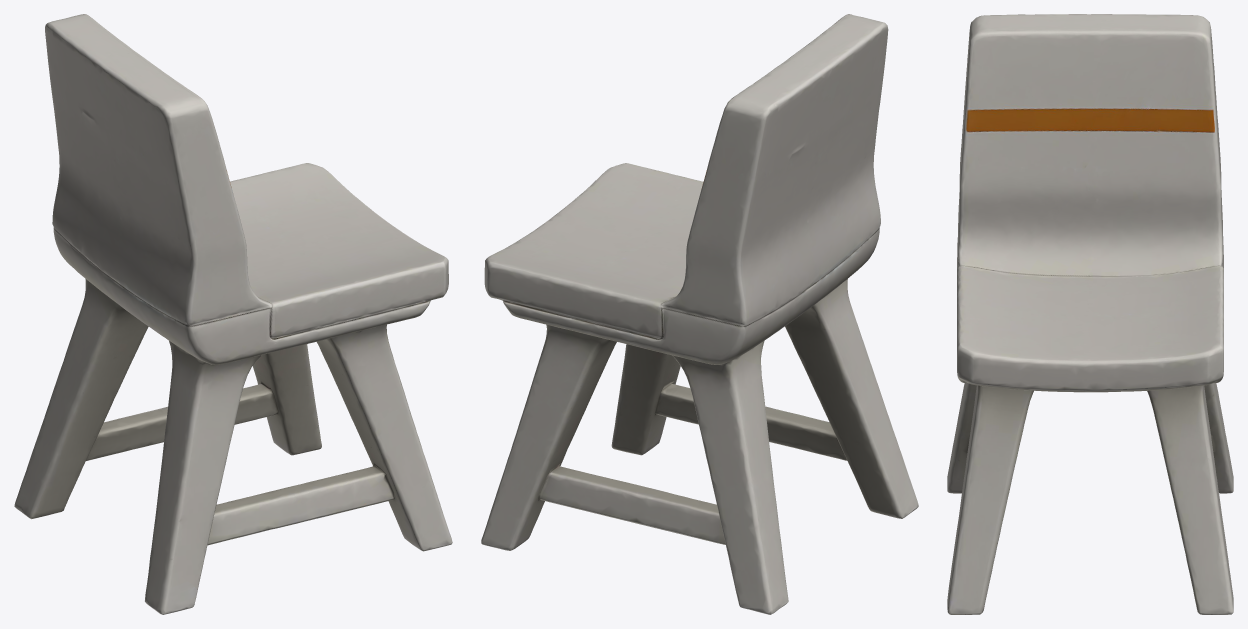
File: tripo-output.glb
The picture shows the model from 3 angles, left to right: view 1: azimuth 30°, elevation 25°; view 2: azimuth 150°, elevation 25°; view 3: azimuth 270°, elevation 25°; orthographic projection. The views are drawn at different scales.
Visible parts, largest first — view 1: tripo_node_08ae6e28-a05e-4b46-8180-fd61aaafe67a; view 2: tripo_node_08ae6e28-a05e-4b46-8180-fd61aaafe67a; view 3: tripo_node_08ae6e28-a05e-4b46-8180-fd61aaafe67a.
Part boxes in pixels (x1,y1,x2,y2): tripo_node_08ae6e28-a05e-4b46-8180-fd61aaafe67a: (14, 14, 452, 614); tripo_node_08ae6e28-a05e-4b46-8180-fd61aaafe67a: (481, 14, 918, 614); tripo_node_08ae6e28-a05e-4b46-8180-fd61aaafe67a: (947, 14, 1233, 614).
Size of the model in its own units: 0.6399 by 1 by 0.5491.
Materials: 1 (1 with a texture image).
